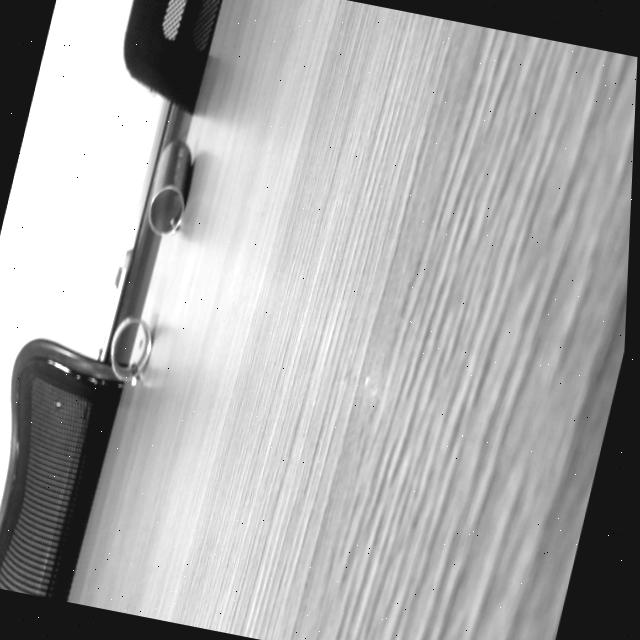Co_Lon: (100, 311, 161, 386)
Co_Nho: (145, 136, 197, 238)
